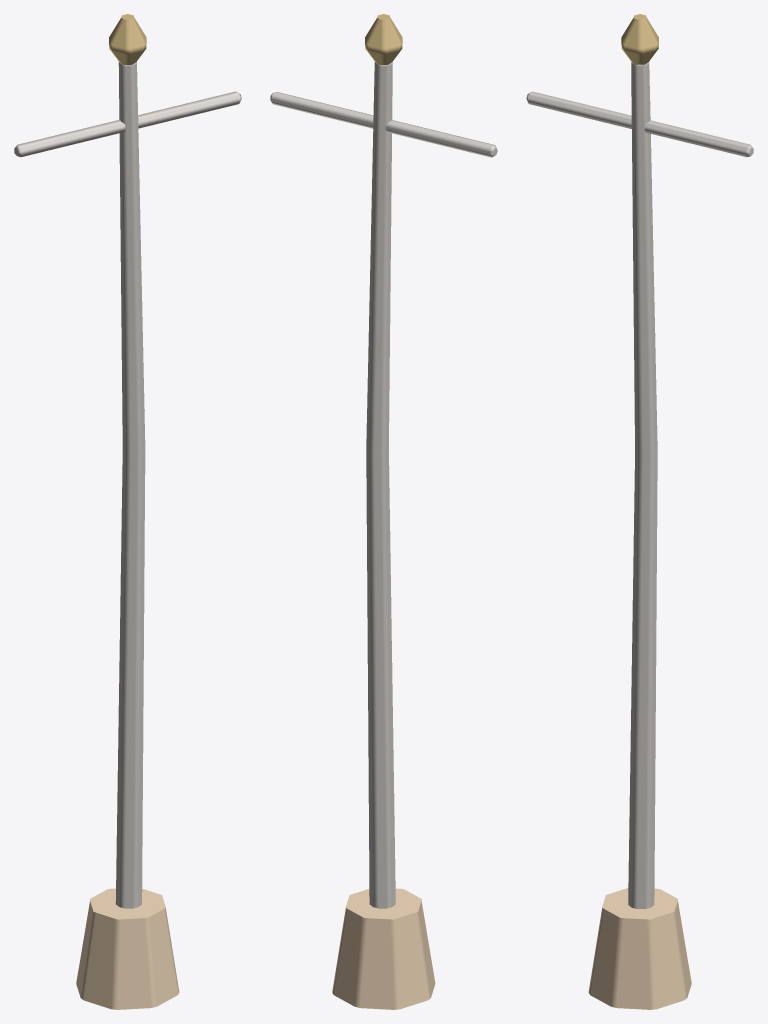
The model's file is prop_banner_pole.glb.
3 views of the same model, side by side, from view 1: azimuth 30°, elevation 25°; view 2: azimuth 150°, elevation 25°; view 3: azimuth 330°, elevation 25° (orthographic).
Visible parts, largest first — view 1: prop_banner_pole; view 2: prop_banner_pole; view 3: prop_banner_pole.
Boxes of the visible parts, left/top/right/bottom form: prop_banner_pole: left=14, top=14, right=241, bottom=1009; prop_banner_pole: left=270, top=14, right=497, bottom=1009; prop_banner_pole: left=526, top=14, right=753, bottom=1009.
Size of the model in its own units: 1.44 by 6.06 by 0.5851.
